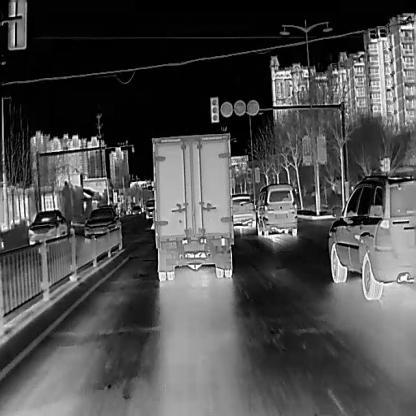car: (151, 134, 233, 281), (328, 174, 416, 300), (256, 183, 298, 236), (27, 208, 67, 245), (83, 207, 119, 238), (229, 193, 254, 227), (144, 199, 153, 219)
